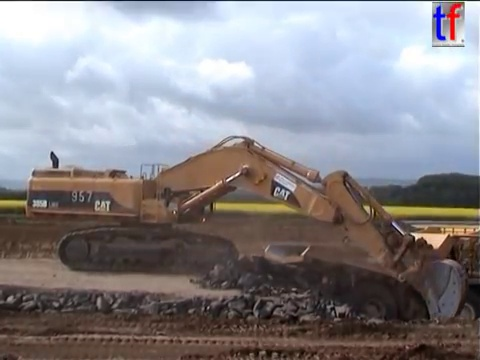excavator: (21, 132, 470, 332)
truck: (261, 221, 480, 343)
